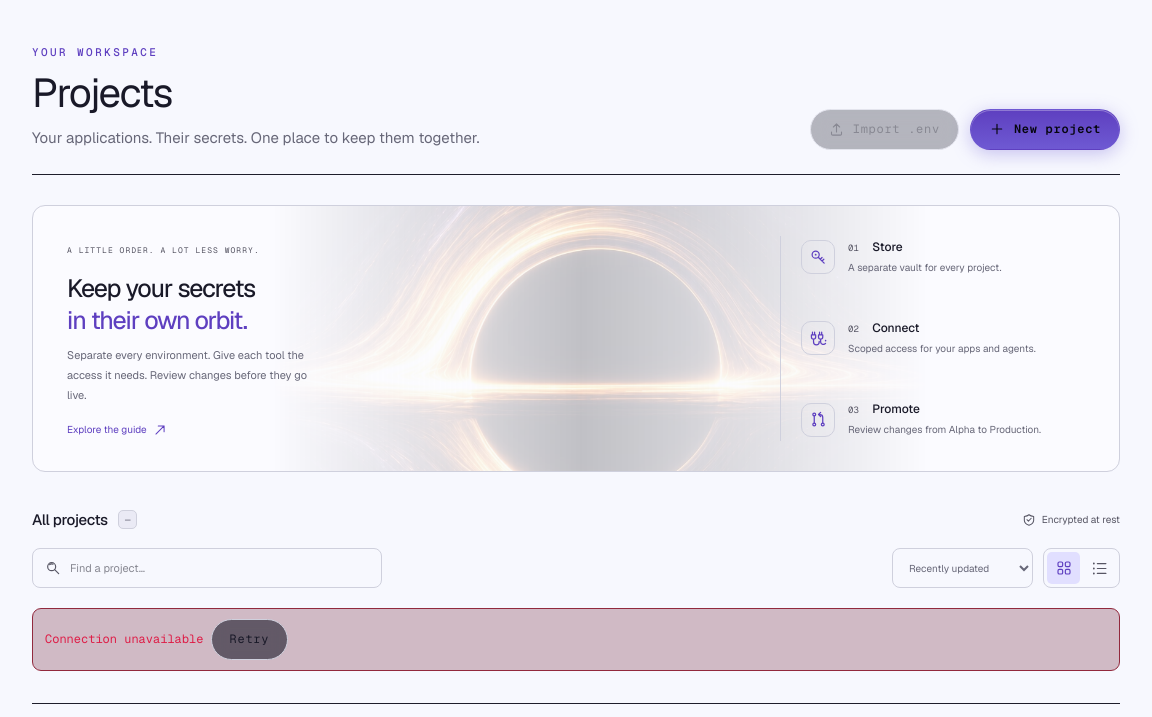
ProjectsPage › recovers a failed project load through Retry
Check: the message shows "Connection unavailable", box [45,631,203,647]
Click the button "Retry" at (249, 640), box [211,619,288,660]
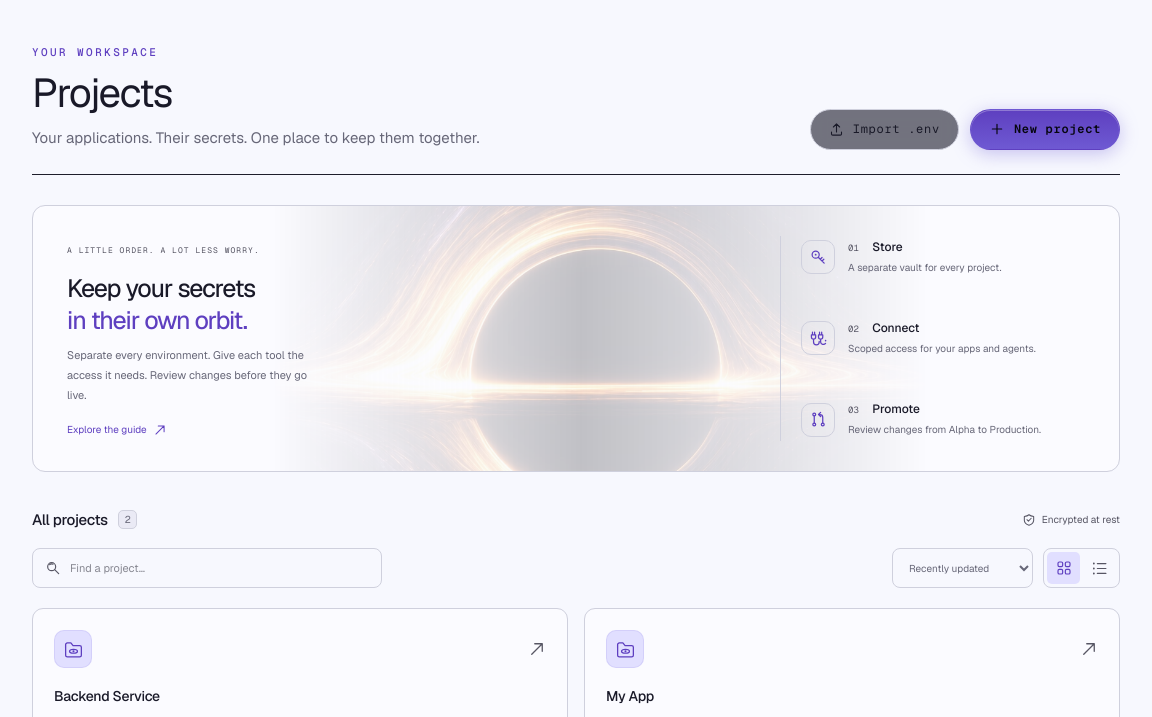
Check: the heading "My App" is shown, box [606,687,654,705]
